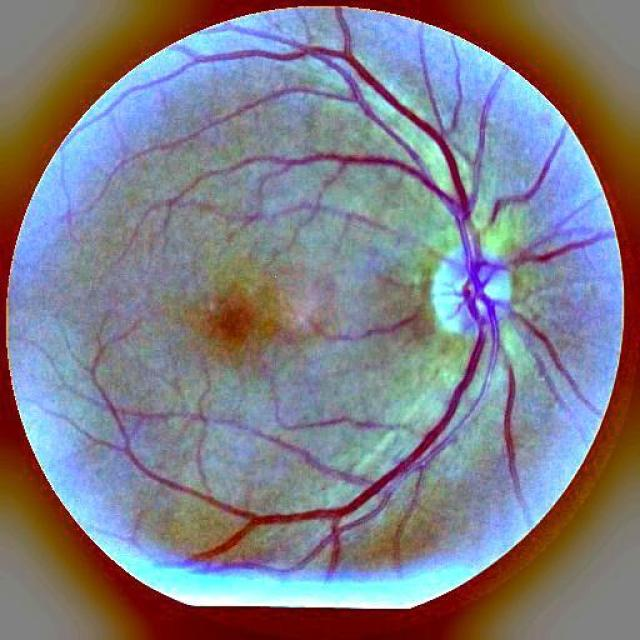Macula: (207, 289, 259, 357)
Nerves: (228, 64, 615, 502), (200, 325, 482, 569), (488, 122, 570, 225), (230, 46, 381, 92), (270, 71, 361, 104), (330, 311, 418, 340)
Optic Disk: (430, 246, 512, 332)
